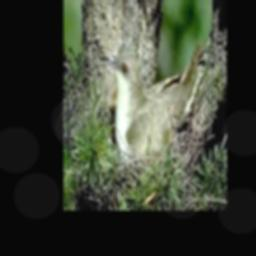Cuckoo: (98, 42, 200, 162)
